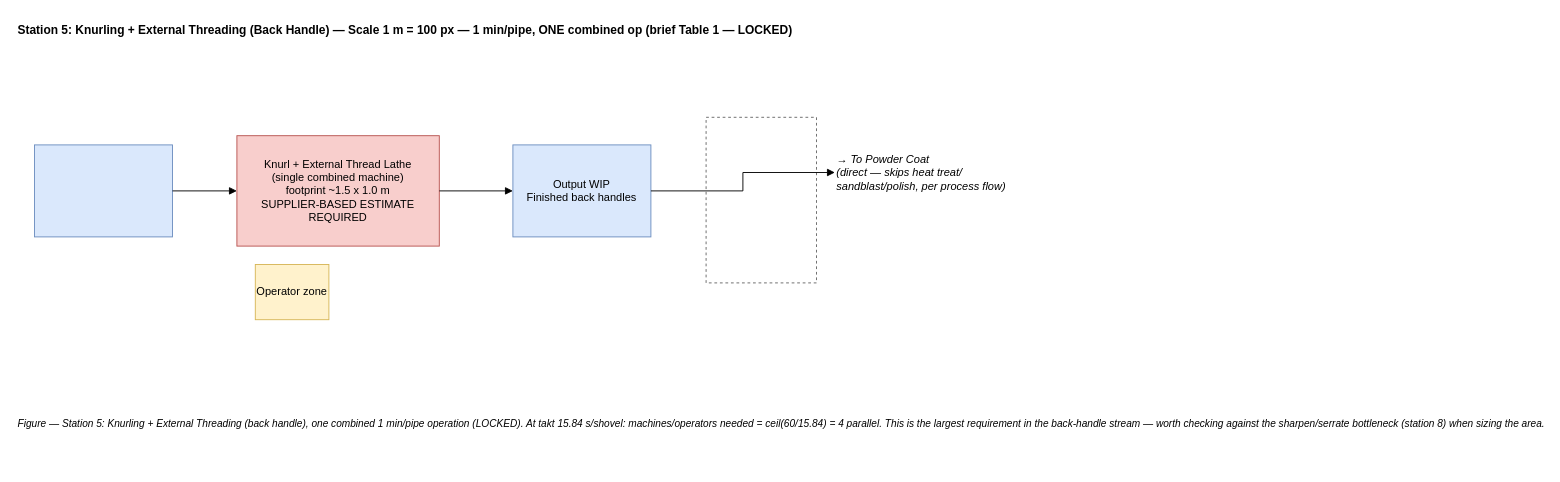
The diagram is 1560 pixels wide and 482 high, and some of its shapes have lost their labels. The centre of each missing label's shape, as x and y in pixels:
Input WIP Narrowed grip ends (from Grip Narrowing): the point at 103,190
Trolley Aisle 1.5 m: the point at 760,199
